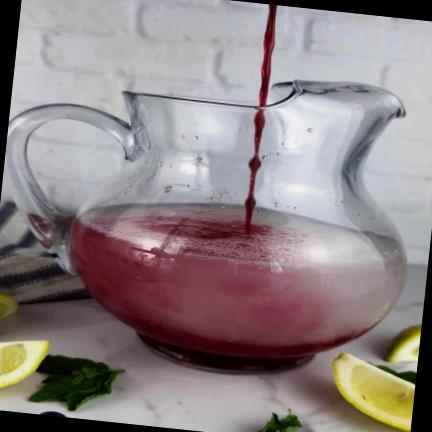container: (72, 79, 408, 358)
fluid: (72, 203, 403, 359)
fluid-surface: (76, 202, 401, 263)
